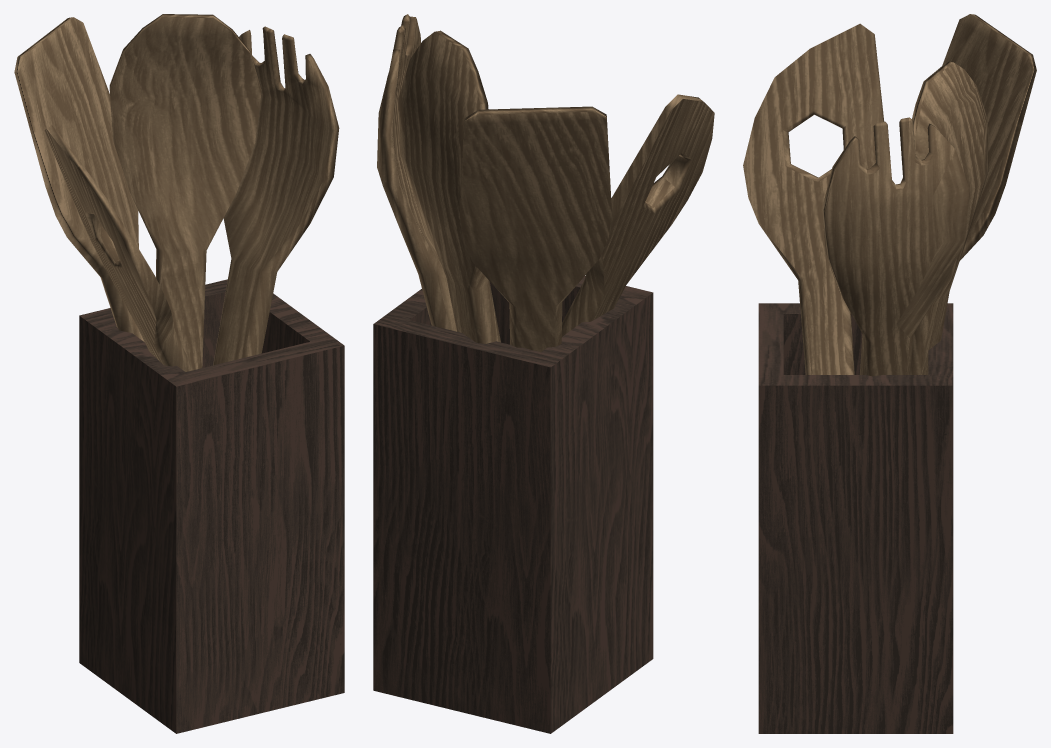
File: prop_003.fbx
The picture shows the model from 3 angles, left to right: view 1: azimuth 30°, elevation 25°; view 2: azimuth 150°, elevation 25°; view 3: azimuth 270°, elevation 25°; orthographic projection. The views are drawn at different scales.
Visible parts, largest first — view 1: prop_003; view 2: prop_003; view 3: prop_003.
Boxes of the visible parts, x1,y1,x2,y2 form: prop_003: (14, 14, 344, 733); prop_003: (373, 14, 714, 733); prop_003: (743, 14, 1036, 733).
Size of the model in its own units: 22.23 by 20.47 by 48.45.
